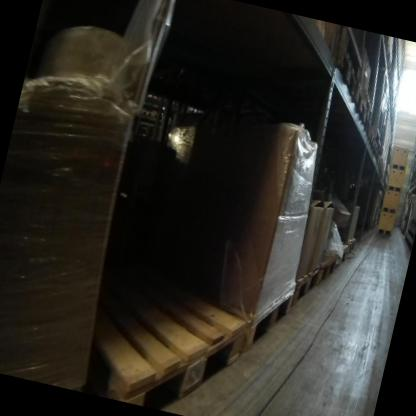pallet: (77, 269, 254, 416), (220, 274, 296, 353), (326, 39, 366, 101), (284, 256, 323, 313), (306, 247, 339, 286), (348, 82, 371, 125), (320, 241, 346, 275), (374, 42, 396, 74), (340, 231, 359, 259), (358, 114, 373, 136), (363, 129, 377, 149), (370, 142, 379, 159)
stillage: (364, 55, 399, 142), (339, 30, 370, 73)
